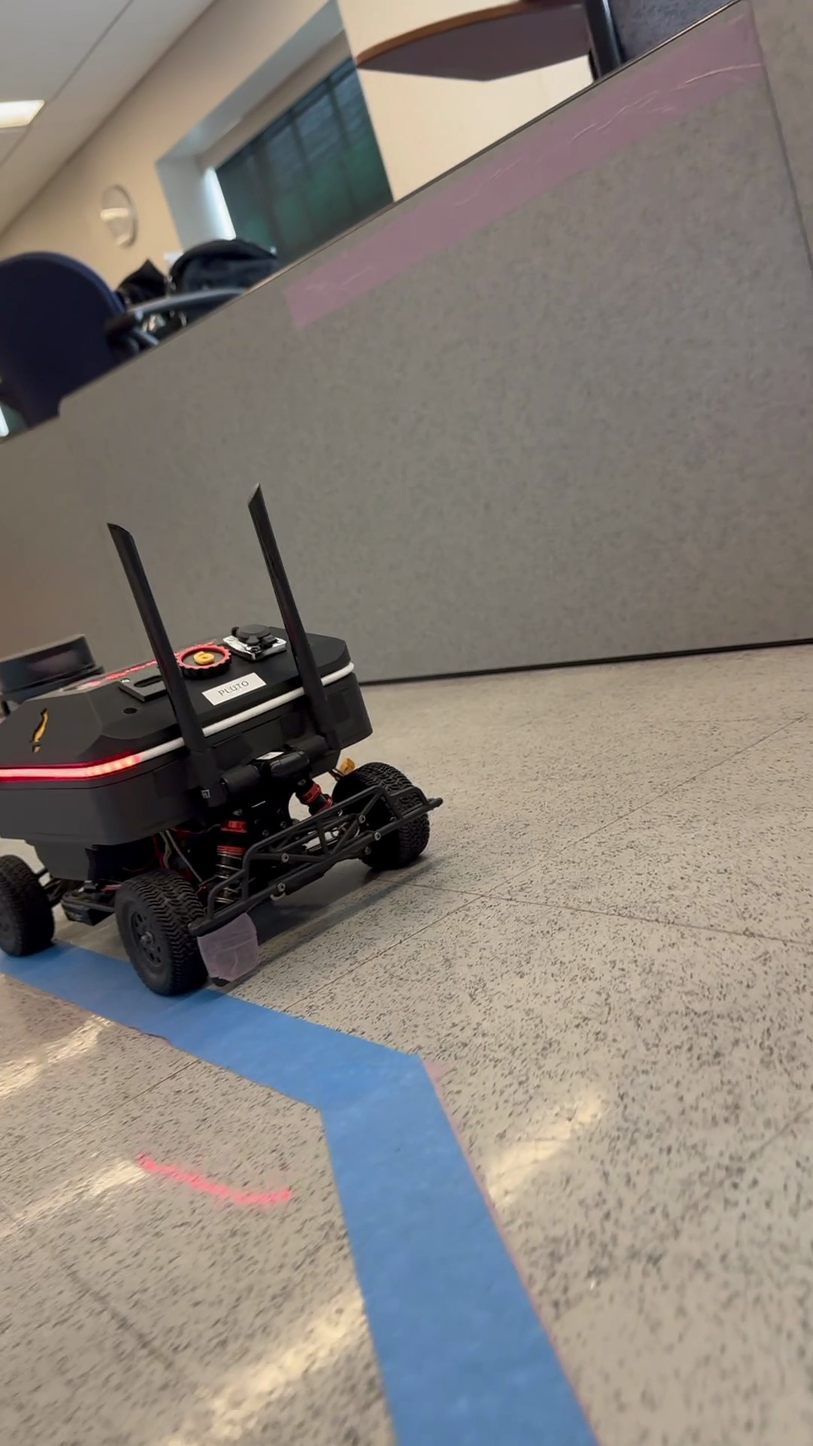racecar: (1, 487, 435, 999)
